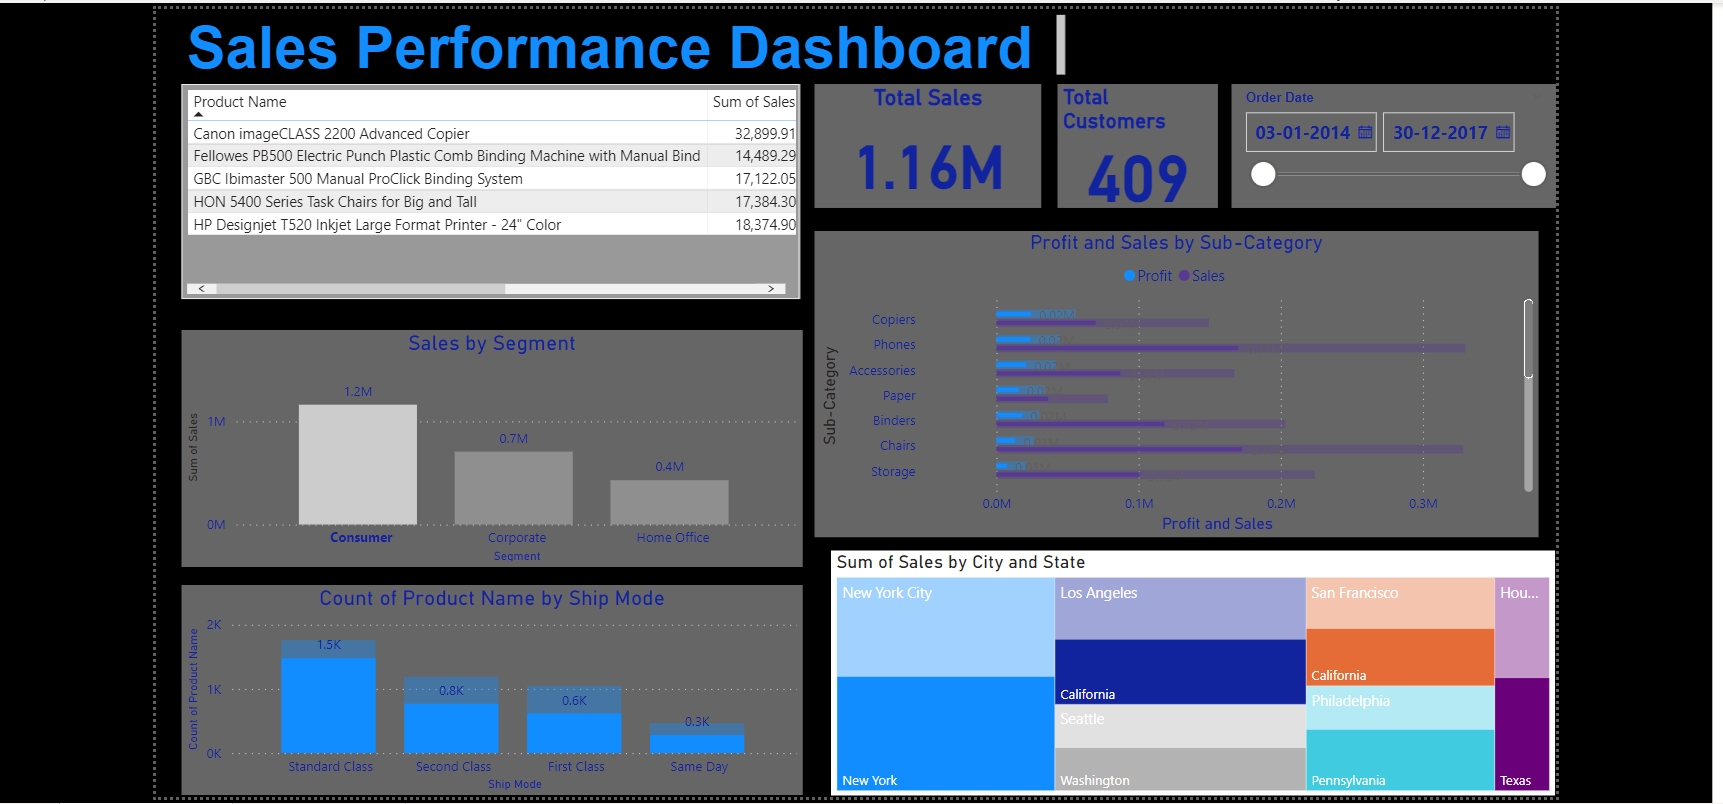

The dashboard page shown, as its layout file describes it:
{"tool":"powerbi","page":{"name":"Sales Analysis","canvas":[1280,720],"ordinal":0},"visuals":[{"type":"tableEx","fields":{"Values":["Orders.Product Name","Sum(Orders.Sales)","Orders.Product Name"]},"box":[22.7,68.1,566.3,196.8],"z":0},{"type":"card","title":"Total Sales","fields":{"Values":["Sum(Orders.Sales)"]},"box":[602.7,68.1,207.4,113.6],"z":1000},{"type":"card","title":"Total Customers ","fields":{"Values":["Count(Orders.Customer Name)"]},"box":[823.7,68.1,146.9,113.6],"z":2000},{"type":"textbox","box":[22.7,0,813.1,68.1],"z":3000},{"type":"slicer","fields":{"Values":["Orders.Order Date"]},"box":[982.7,68.1,296.8,113.6],"z":4000},{"type":"columnChart","title":"Sales by Segment","fields":{"Category":["Orders.Segment"],"Y":["Sum(Orders.Sales)"]},"box":[22.7,293.8,567.8,216.5],"z":5000},{"type":"columnChart","fields":{"Category":["Orders.Ship Mode"],"Y":["Count(Orders.Product Name)"]},"box":[22.7,526.9,567.8,192.3],"z":6000},{"type":"treemap","fields":{"Values":["Sum(Orders.Sales)"],"Group":["Orders.City"],"Details":["Orders.State"]},"box":[617.8,495.1,661.7,224.1],"z":7000},{"type":"clusteredBarChart","title":"Profit and Sales by Sub-Category","fields":{"Category":["Orders.Sub-Category"],"Y":["Sum(Orders.Profit)","Sum(Orders.Sales)"]},"box":[602.7,202.9,661.7,280.1],"z":8000}]}

Visuals, with their boxes in screenshot pixels (x1, y1, x2, y2):
tableEx - Orders.Product Name x Sum(Orders.Sales): (left=173, top=75, right=796, bottom=291)
"Total Sales" card: (left=811, top=75, right=1039, bottom=200)
"Total Customers " card: (left=1054, top=75, right=1216, bottom=200)
textbox: (left=173, top=0, right=1068, bottom=75)
slicer - Orders.Order Date: (left=1229, top=75, right=1556, bottom=200)
"Sales by Segment" columnChart: (left=173, top=323, right=798, bottom=561)
columnChart - Orders.Ship Mode x Count(Orders.Product Name): (left=173, top=580, right=798, bottom=791)
treemap - Sum(Orders.Sales) x Orders.City: (left=828, top=545, right=1556, bottom=791)
"Profit and Sales by Sub-Category" clusteredBarChart: (left=811, top=223, right=1539, bottom=531)
